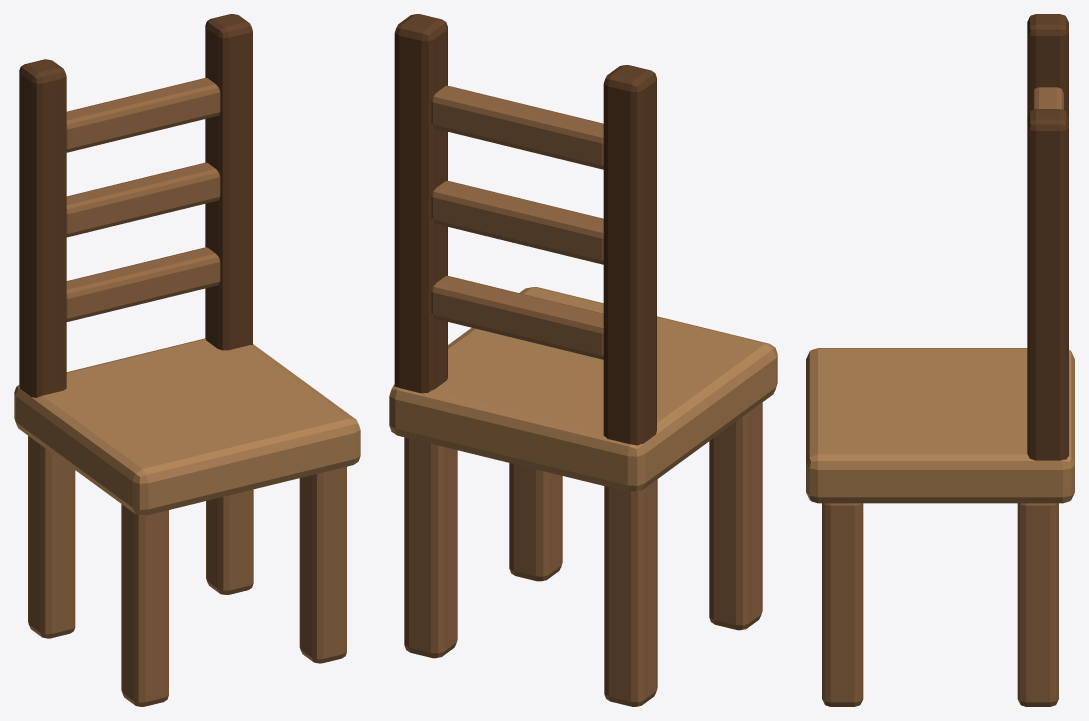
File: chair_ladderback_0p56.glb
3 views of the same model, side by side, from view 1: azimuth 30°, elevation 25°; view 2: azimuth 150°, elevation 25°; view 3: azimuth 270°, elevation 25° (orthographic). The views are drawn at different scales.
Parts seen in each view (by area): view 1: chair_seat, chair_back_post_-0.23, chair_back_post_+0.23, chair_leg_-0.22_-0.20, chair_leg_+0.22_-0.20, chair_leg_-0.22_+0.20, chair_back_slat_02, chair_back_slat_03, chair_back_slat_01, chair_leg_+0.22_+0.20; view 2: chair_seat, chair_back_post_-0.23, chair_back_post_+0.23, chair_leg_-0.22_+0.20, chair_leg_+0.22_+0.20, chair_leg_-0.22_-0.20, chair_back_slat_02, chair_back_slat_03, chair_back_slat_01, chair_leg_+0.22_-0.20; view 3: chair_seat, chair_back_post_+0.23, chair_leg_+0.22_-0.20, chair_leg_+0.22_+0.20, chair_back_post_-0.23, chair_back_slat_03.
Part boxes in pixels (x1=…): chair_seat: x1=14, y1=338, x2=360, y2=515; chair_back_post_-0.23: x1=19, y1=59, x2=66, y2=397; chair_back_post_+0.23: x1=205, y1=14, x2=252, y2=350; chair_leg_-0.22_-0.20: x1=121, y1=504, x2=168, y2=706; chair_leg_+0.22_-0.20: x1=299, y1=466, x2=346, y2=663; chair_leg_-0.22_+0.20: x1=28, y1=436, x2=75, y2=638; chair_back_slat_02: x1=66, y1=162, x2=220, y2=237; chair_back_slat_03: x1=66, y1=78, x2=220, y2=152; chair_back_slat_01: x1=66, y1=247, x2=220, y2=321; chair_leg_+0.22_+0.20: x1=206, y1=489, x2=253, y2=594; chair_seat: x1=389, y1=287, x2=777, y2=492; chair_back_post_-0.23: x1=603, y1=65, x2=656, y2=445; chair_back_post_+0.23: x1=394, y1=14, x2=447, y2=393; chair_leg_-0.22_+0.20: x1=604, y1=479, x2=657, y2=706; chair_leg_+0.22_+0.20: x1=404, y1=437, x2=457, y2=658; chair_leg_-0.22_-0.20: x1=709, y1=402, x2=762, y2=630; chair_back_slat_02: x1=431, y1=181, x2=603, y2=264; chair_back_slat_03: x1=431, y1=85, x2=603, y2=169; chair_back_slat_01: x1=431, y1=276, x2=603, y2=359; chair_leg_+0.22_-0.20: x1=509, y1=463, x2=562, y2=581; chair_seat: x1=806, y1=348, x2=1074, y2=503; chair_back_post_+0.23: x1=1027, y1=109, x2=1068, y2=460; chair_leg_+0.22_-0.20: x1=822, y1=503, x2=863, y2=706; chair_leg_+0.22_+0.20: x1=1017, y1=503, x2=1058, y2=706; chair_back_post_-0.23: x1=1027, y1=14, x2=1068, y2=116; chair_back_slat_03: x1=1032, y1=87, x2=1063, y2=109.
Bounding box in the file's own units: 0.56 × 1.33 × 0.55.
